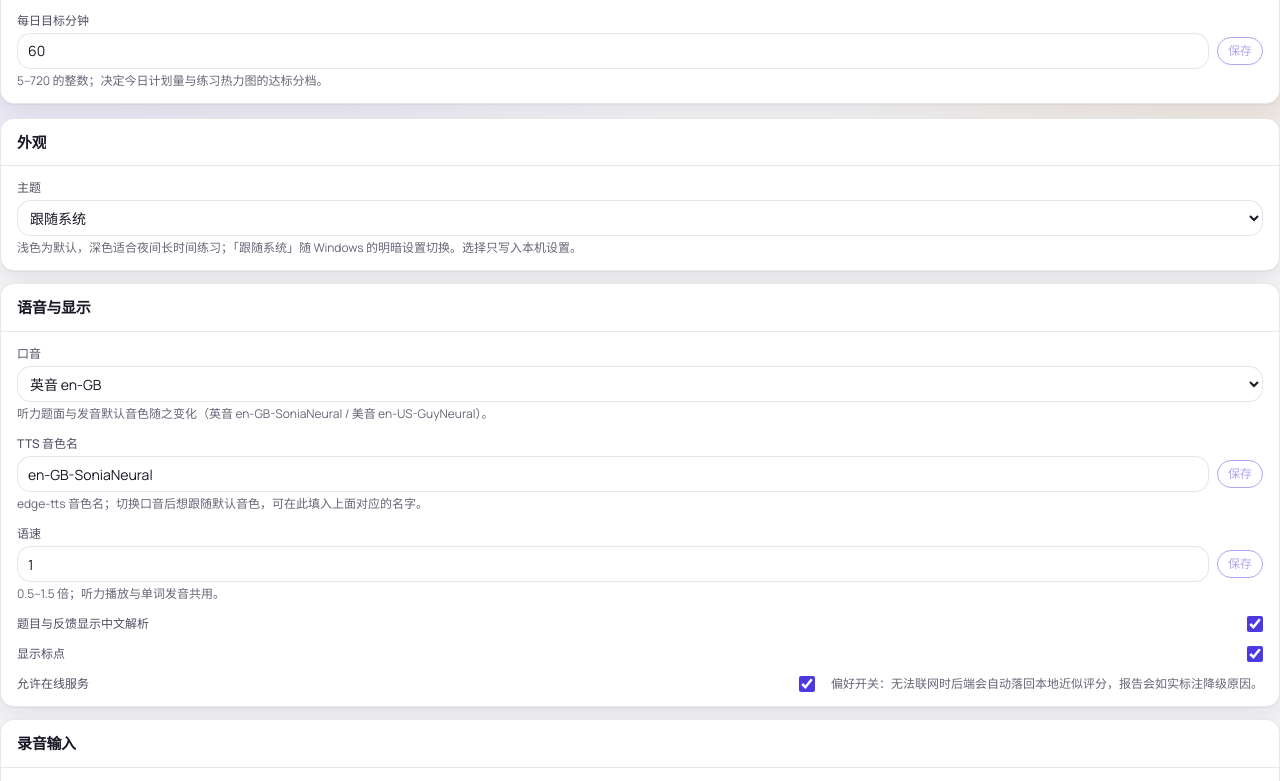
Test case: AC-C1 逐项 PATCH › 后端 400 的 validation_failed detail 必须显示出来（CONSTITUTION §3）
(page scrolled)
expect the number field with id "setting-daily-goal" holds "60": met, box x1=17 y1=33 x2=1209 y2=69
Step 1. Select "美音 en-US" in the dropdown with id "setting-accent" → (640, 384), box x1=17 y1=366 x2=1263 y2=402
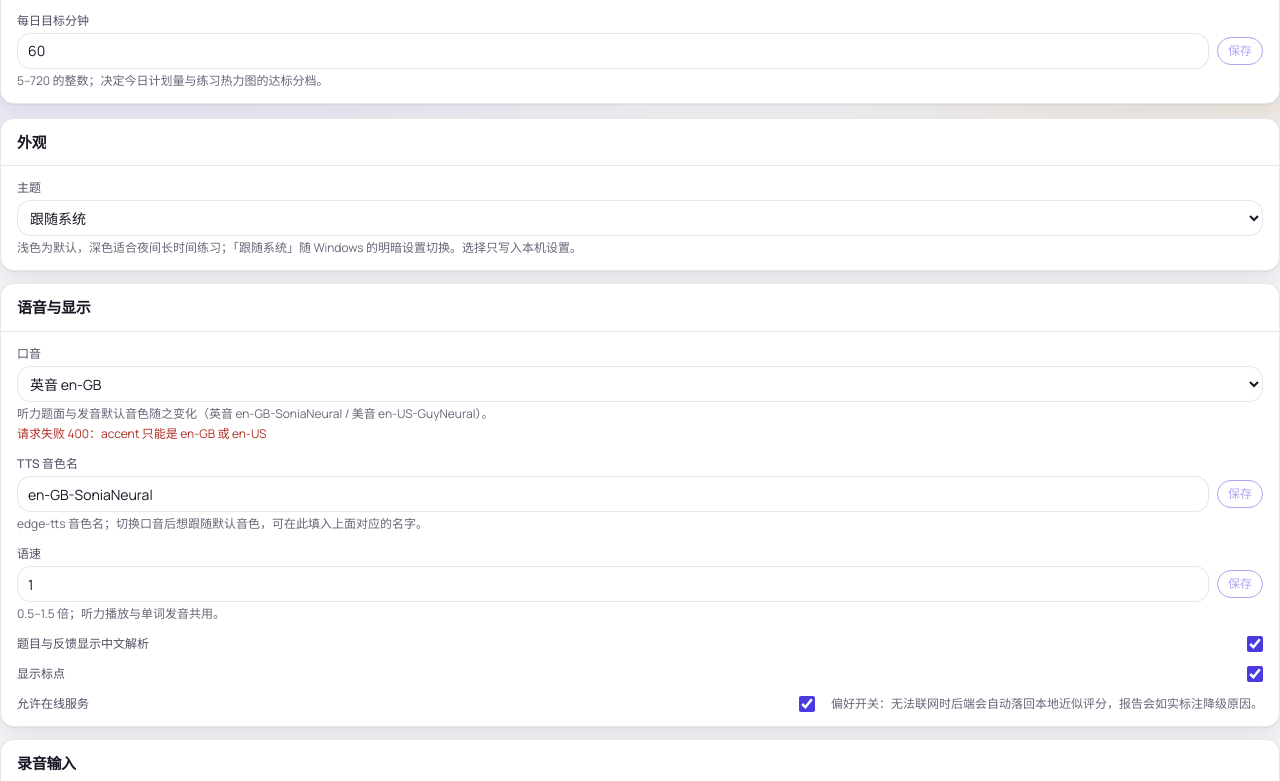
expect the message shows "请求失败 400": met, box x1=17 y1=425 x2=266 y2=442
expect the message shows "accent 只能是 en-GB 或 en-US": met, box x1=17 y1=425 x2=266 y2=442
